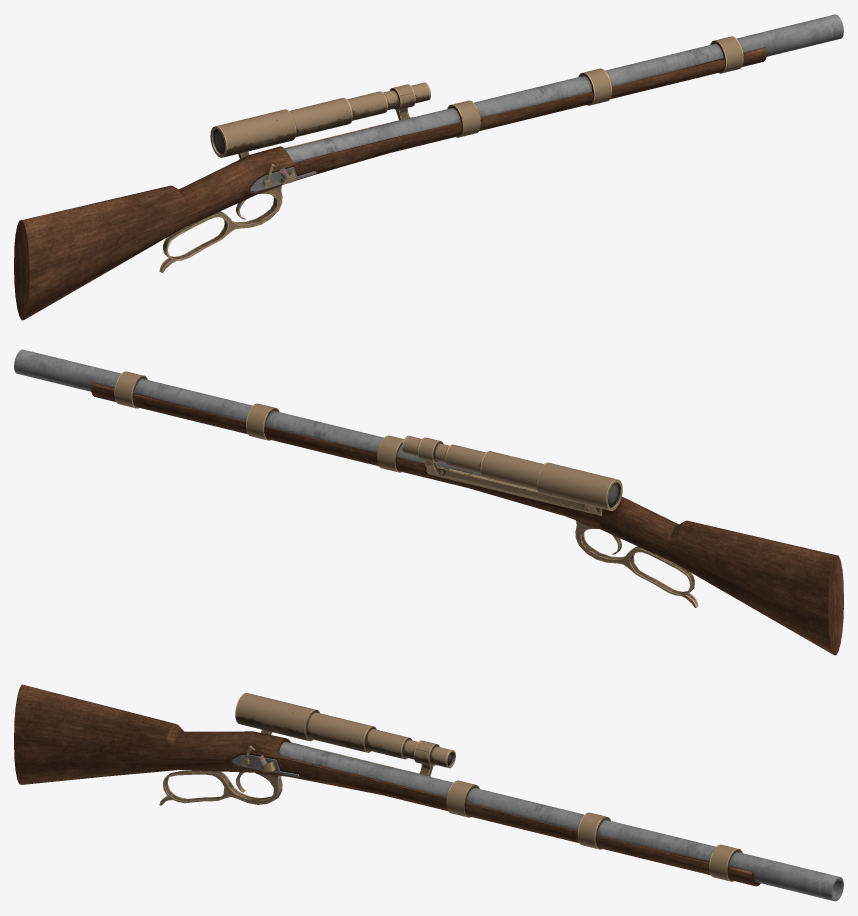
Rendered from simple_steampunk_laser_musket.glb.
3 renders of one model, top to bottom at view 1: azimuth 30°, elevation 25°; view 2: azimuth 150°, elevation 25°; view 3: azimuth 330°, elevation 25°, orthographic.
Visible parts, largest first — view 1: Body_low, Barrel_low, Scope_low, Lever_low, Ring3_low, Ring2_low, Ring1_low; view 2: Body_low, Barrel_low, Scope_low, ScopeMount_low, Lever_low, Ring2_low, Ring1_low, Ring3_low; view 3: Body_low, Barrel_low, Scope_low, Lever_low, Ring3_low, Ring1_low, Ring2_low, FlashPlate_low, ScopeRing_low.
Part boxes in pixels (x1,y1,x2,y2): Body_low: [14, 47, 766, 320]; Barrel_low: [285, 14, 843, 162]; Scope_low: [210, 82, 430, 157]; Lever_low: [159, 185, 282, 272]; Ring3_low: [447, 100, 480, 137]; Ring2_low: [578, 68, 611, 105]; Ring1_low: [710, 36, 743, 73]; Body_low: [91, 382, 843, 655]; Barrel_low: [14, 349, 482, 476]; Scope_low: [402, 435, 622, 510]; ScopeMount_low: [424, 460, 602, 515]; Lever_low: [575, 520, 698, 607]; Ring2_low: [246, 403, 279, 440]; Ring1_low: [114, 371, 147, 408]; Ring3_low: [377, 435, 403, 472]; Body_low: [14, 684, 760, 886]; Barrel_low: [279, 741, 843, 901]; Scope_low: [235, 692, 455, 768]; Lever_low: [159, 770, 282, 805]; Ring3_low: [446, 780, 479, 817]; Ring1_low: [709, 844, 742, 881]; Ring2_low: [577, 812, 610, 849]; FlashPlate_low: [232, 754, 299, 777]; ScopeRing_low: [413, 740, 439, 766].
Size of the model in its own units: 0.2333 by 0.0364 by 0.0165.
Materials: 1 (1 with a texture image).
